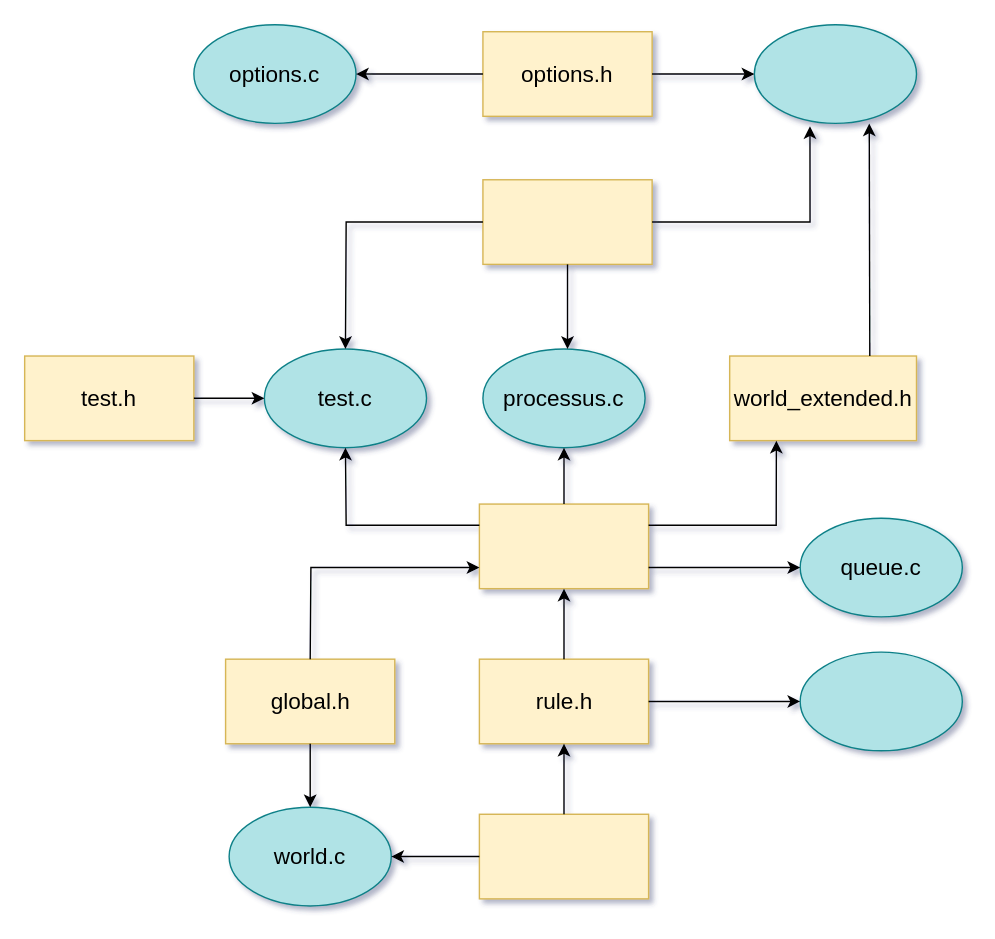
Image size: 995x939. Some labels were removed from this diagram. The centre of each missing label's shape, as x and y in pixels:
"processus.h" belongs at (x=567, y=221).
"project.c" belongs at (x=834, y=73).
"queue.h" belongs at (x=563, y=546).
"rule.c" belongs at (x=880, y=701).
"world.h" belongs at (x=563, y=856).
